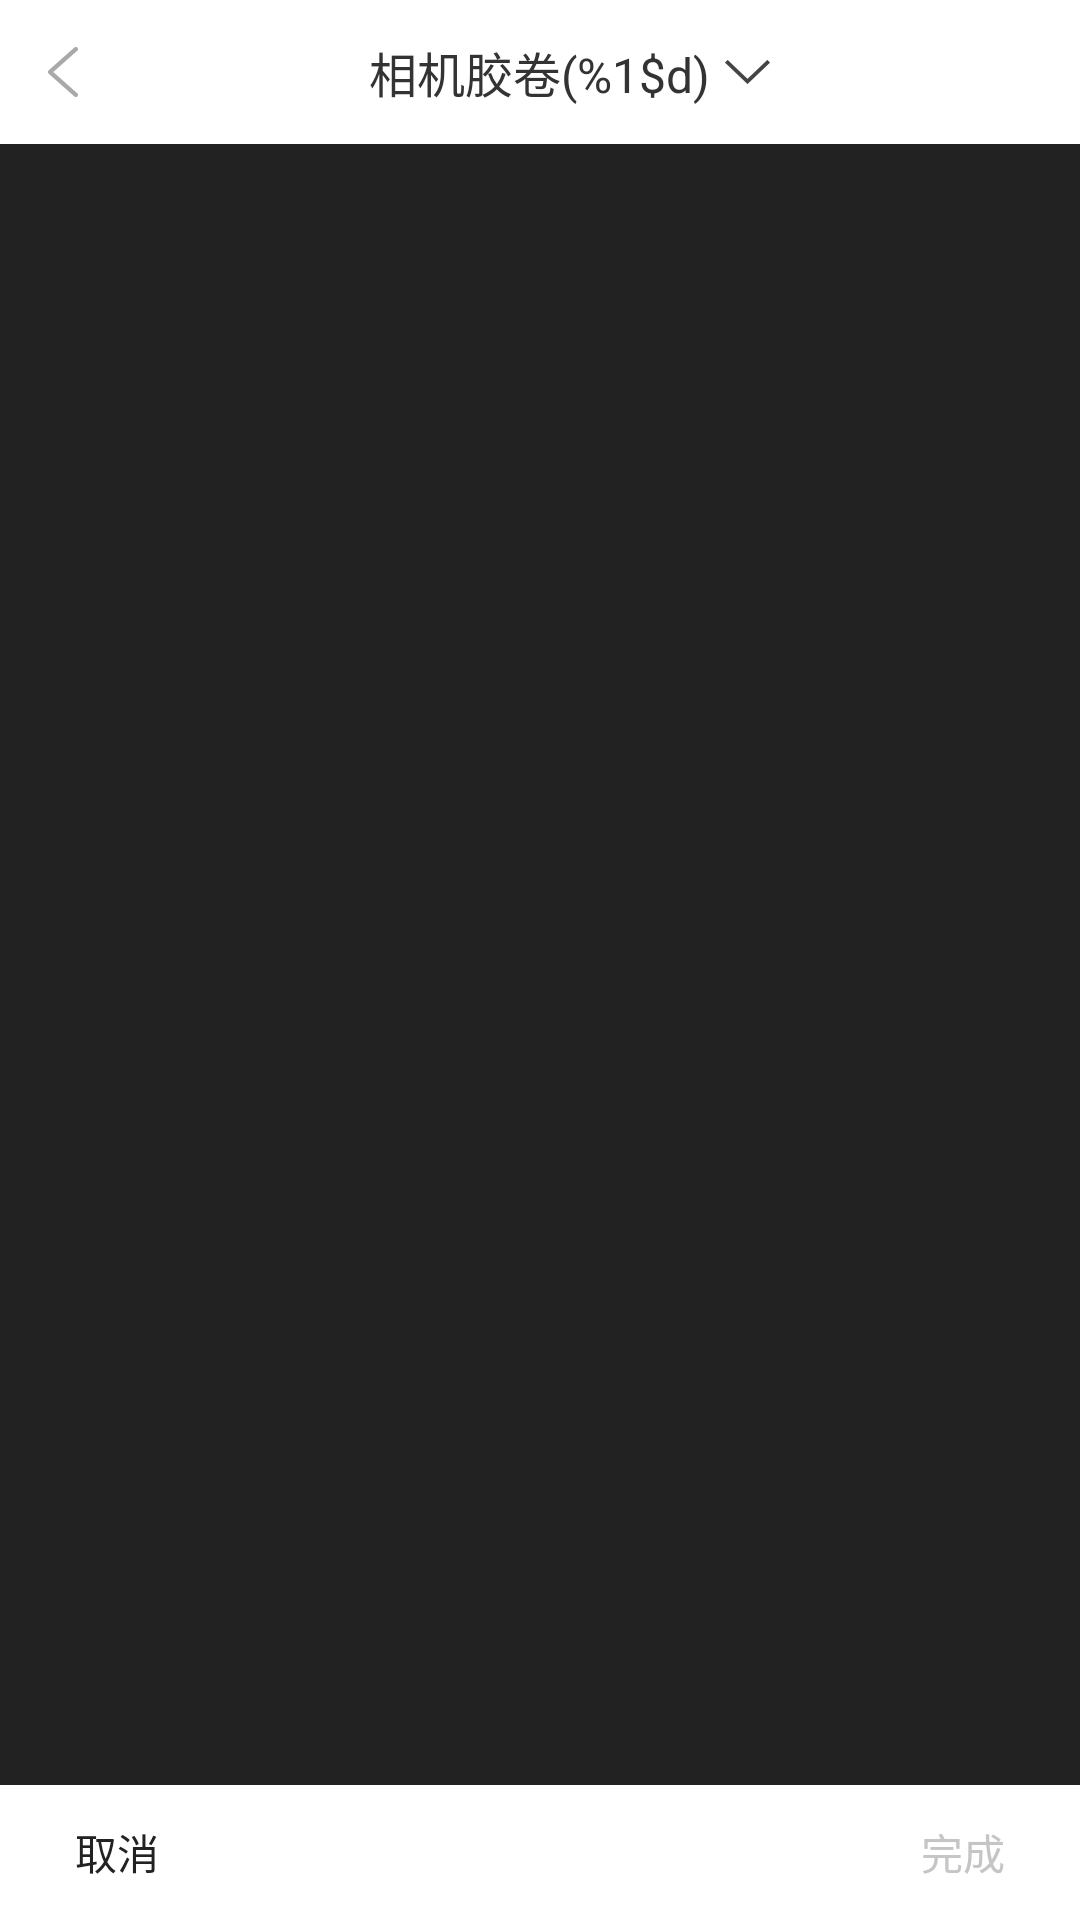

Locate icon controls on the screen. Image size 1080px x 1920px, boxes as detection(x1, y1, x2, y2).
arrow down: detection(725, 60, 770, 84)
back: detection(48, 47, 78, 97)
